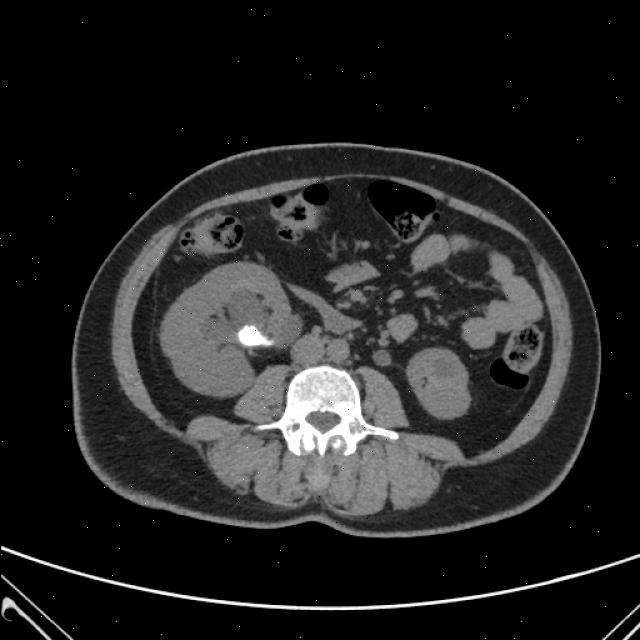kidneystone: (238, 325, 274, 347)
